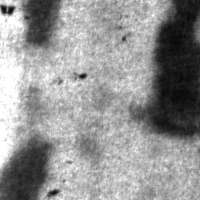patches: (140, 0, 199, 139), (0, 132, 53, 199), (15, 0, 63, 47)
